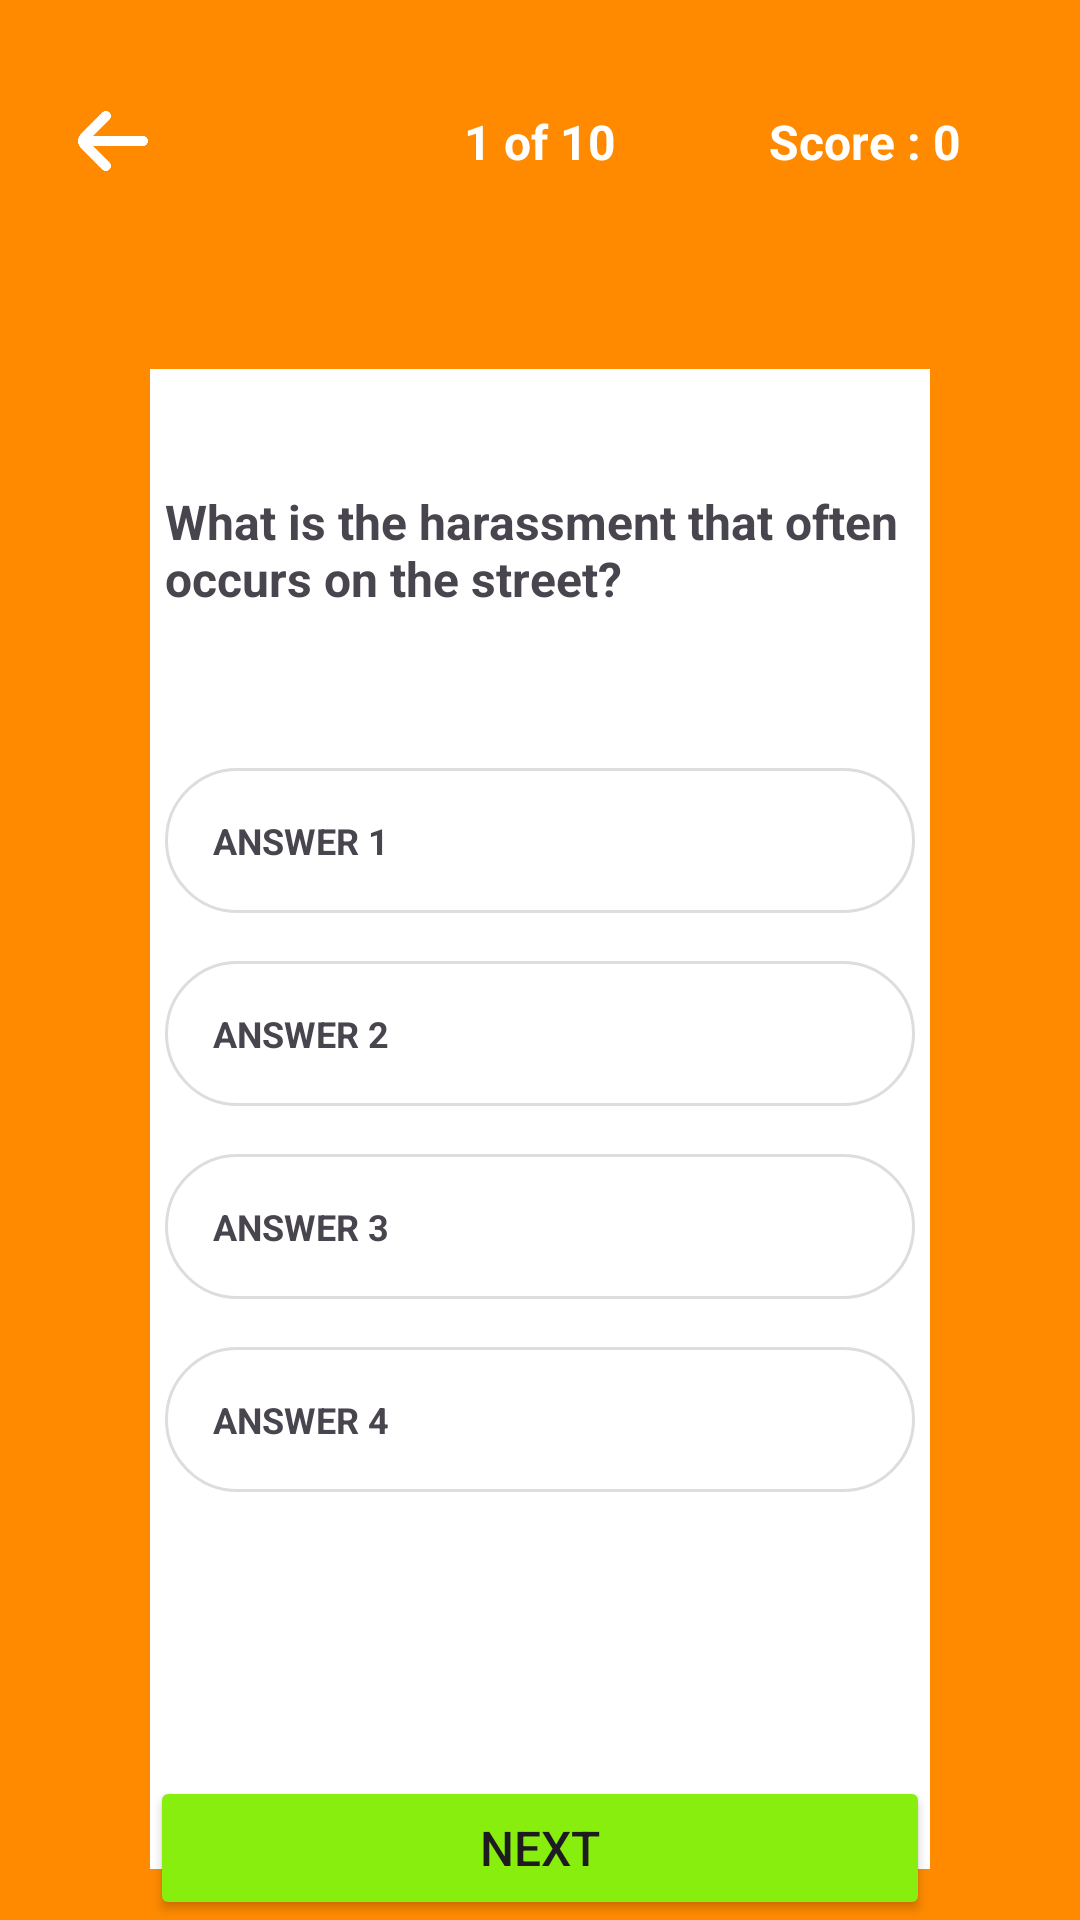

Point at icon controls on the screen. Image size 1080x1920, points as [x,y].
arrow left: [113,141]
